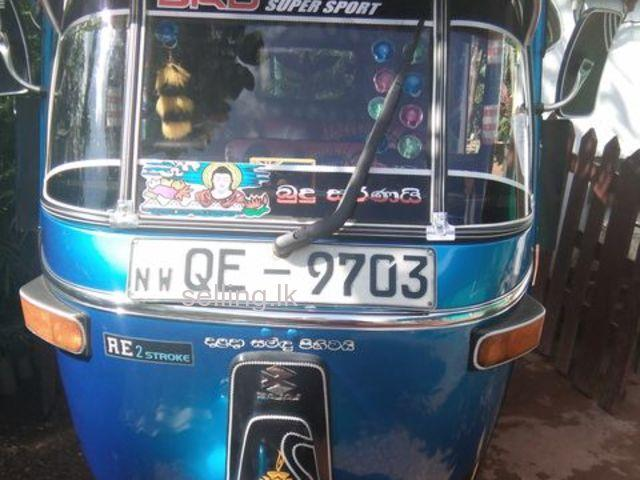threewheel: (1, 1, 623, 480)
